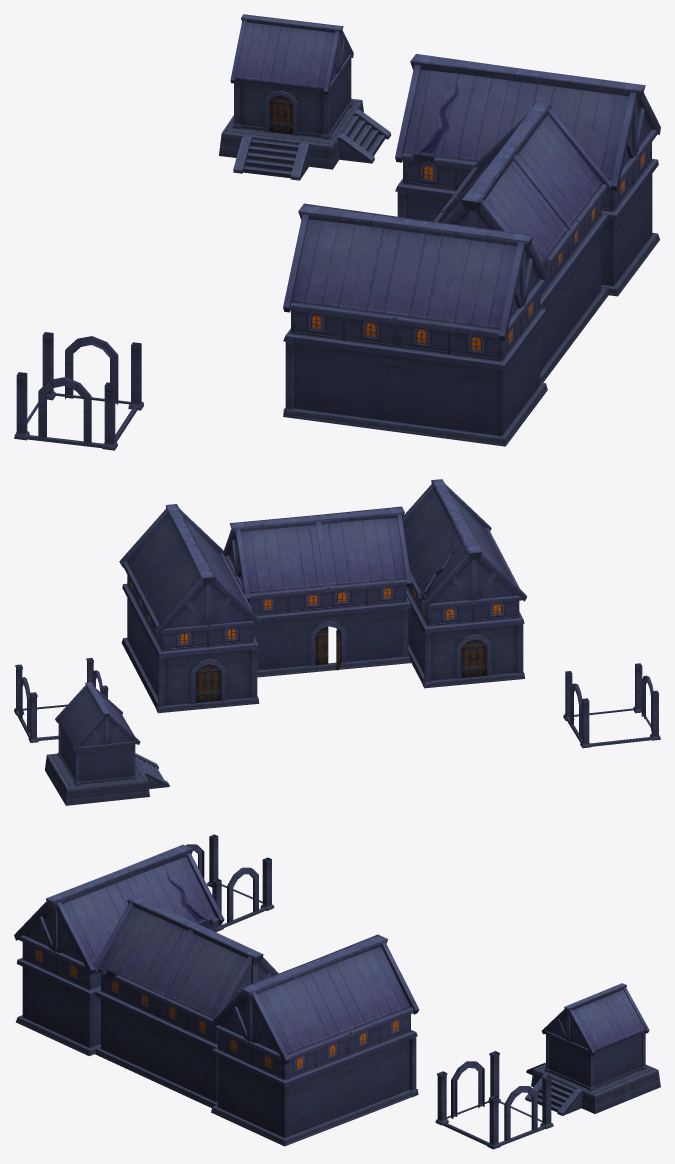
The model's file is Area11_9.fbx.
The picture shows the model from 3 angles, top to bottom: view 1: azimuth 30°, elevation 25°; view 2: azimuth 150°, elevation 25°; view 3: azimuth 270°, elevation 25°; orthographic projection. The views are drawn at different scales.
Parts seen in each view (by area): view 1: Area11_9; view 2: Area11_9; view 3: Area11_9.
Part boxes in pixels (<box>): Area11_9: <box>14,14,660,450</box>; Area11_9: <box>14,479,660,805</box>; Area11_9: <box>14,834,660,1149</box>.
Bounding box in the file's own units: 5421 × 1366 × 5557.
